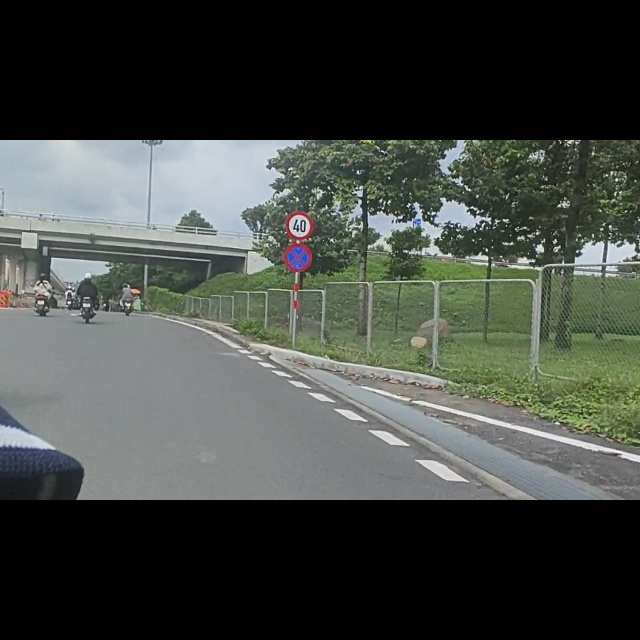bien_cam: (285, 126, 315, 179), (284, 185, 312, 236)
